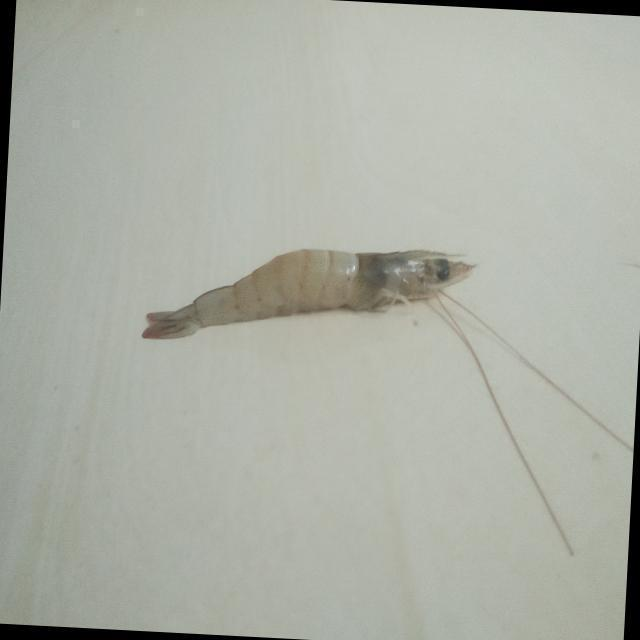shrimp: (142, 249, 475, 339)
